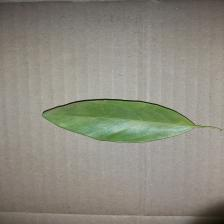greening: (38, 96, 220, 147)
